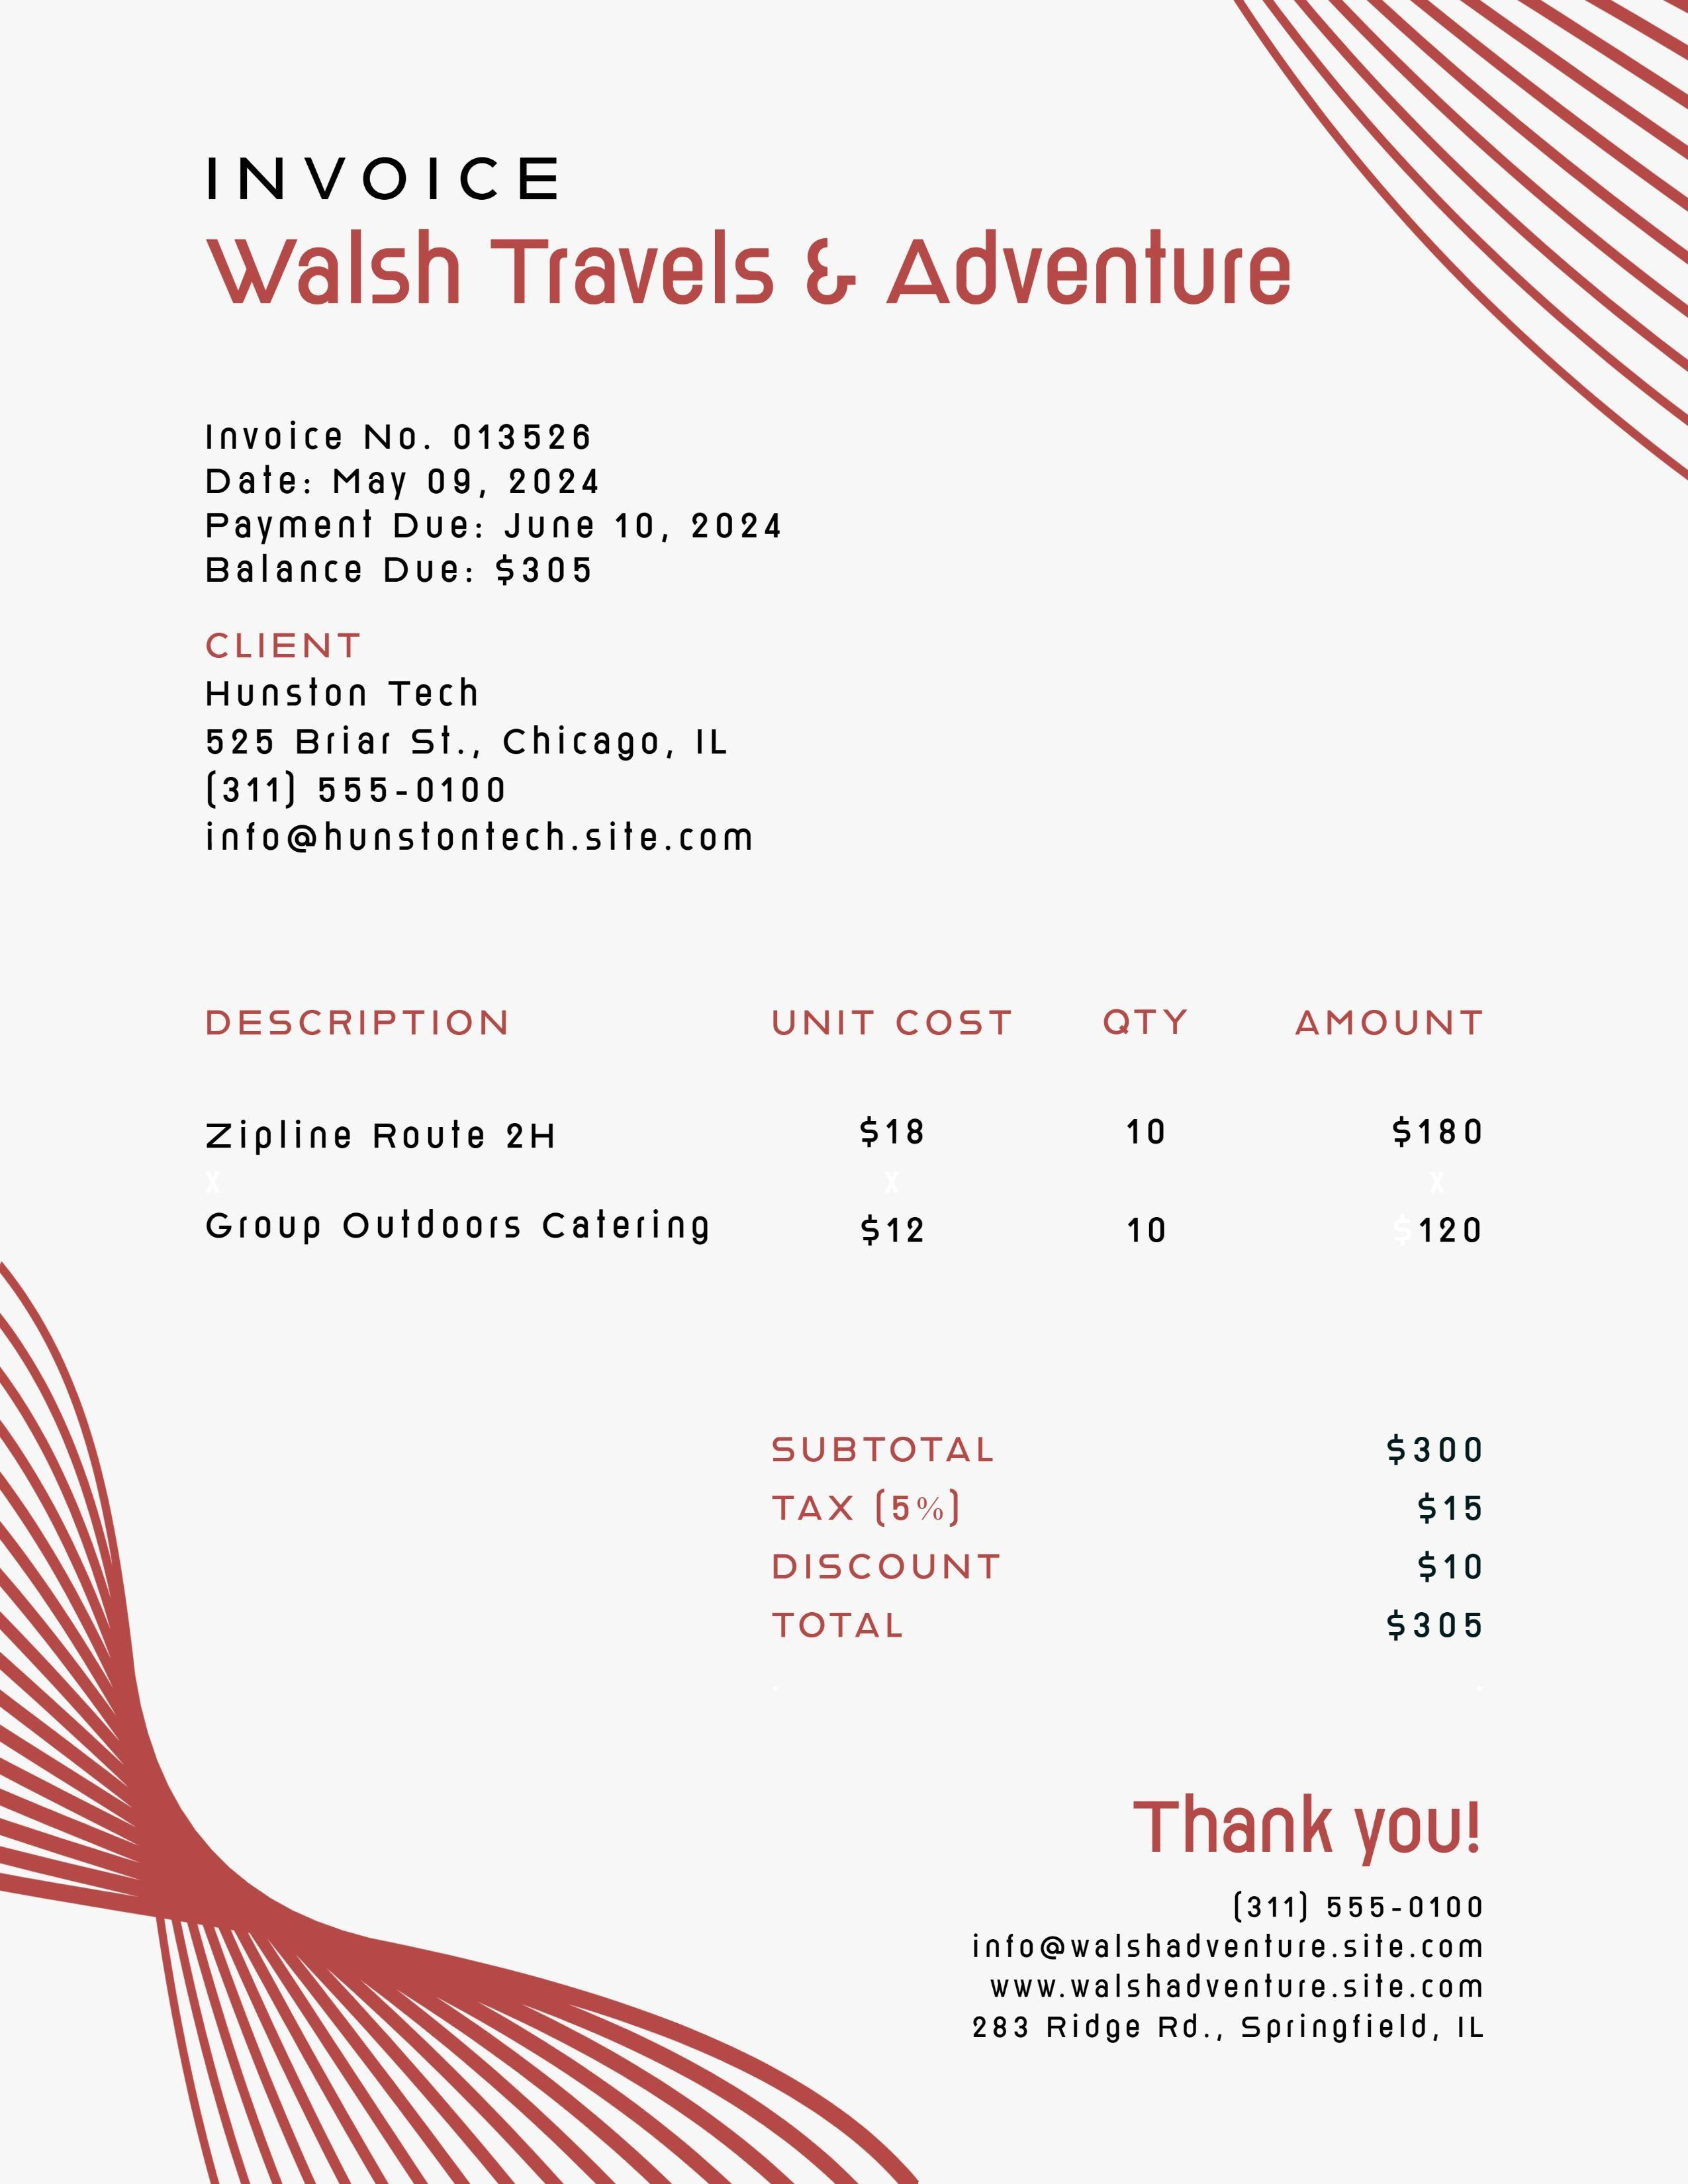ROI: (169, 985, 1545, 1300), (750, 1400, 1508, 1680), (185, 625, 774, 883), (175, 215, 1334, 342), (179, 410, 821, 616)
